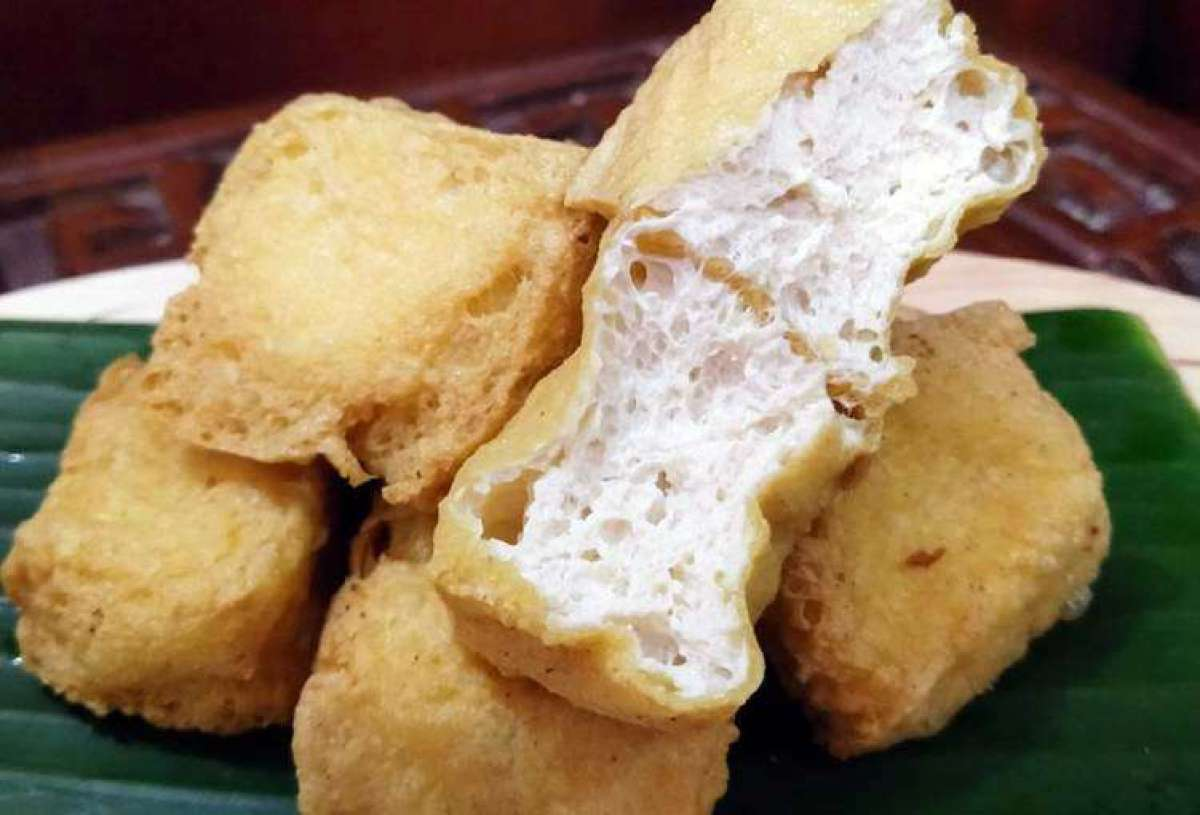Tahu: (700, 305, 1111, 728), (167, 94, 604, 485), (1, 398, 331, 712)
